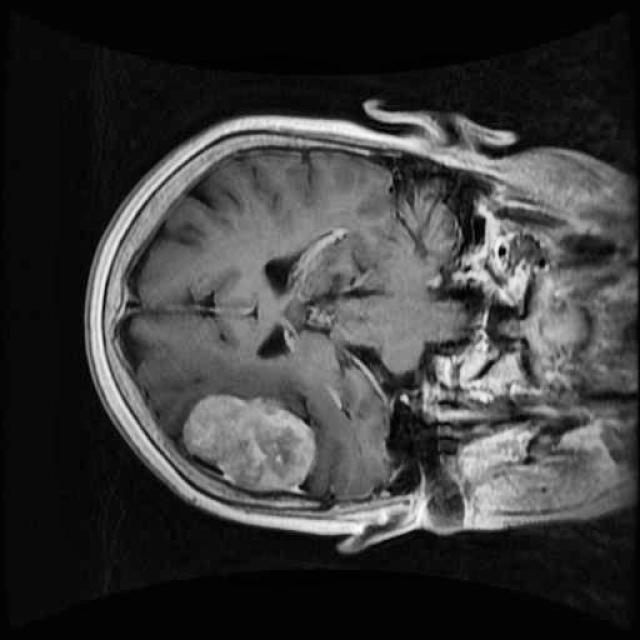Tumor: (164, 380, 333, 516)
